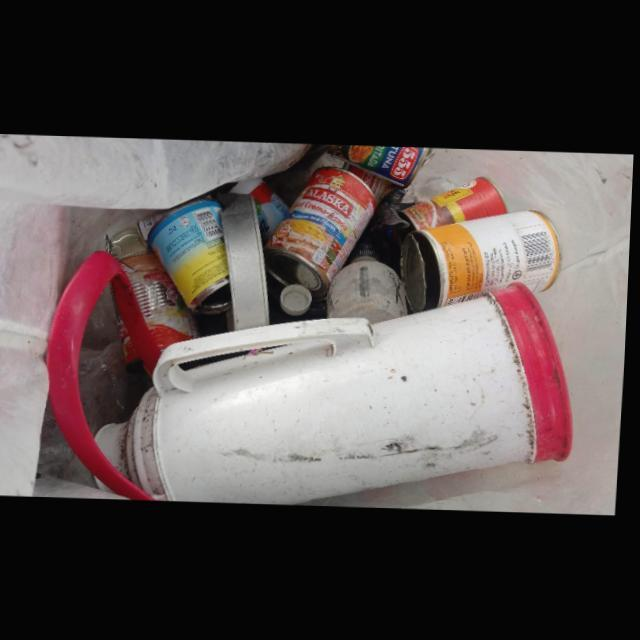metal: (402, 209, 563, 313), (265, 165, 377, 299), (107, 224, 200, 354), (151, 199, 234, 314), (222, 192, 272, 330), (402, 175, 511, 229), (327, 144, 436, 188)
plastic: (329, 241, 410, 323)
